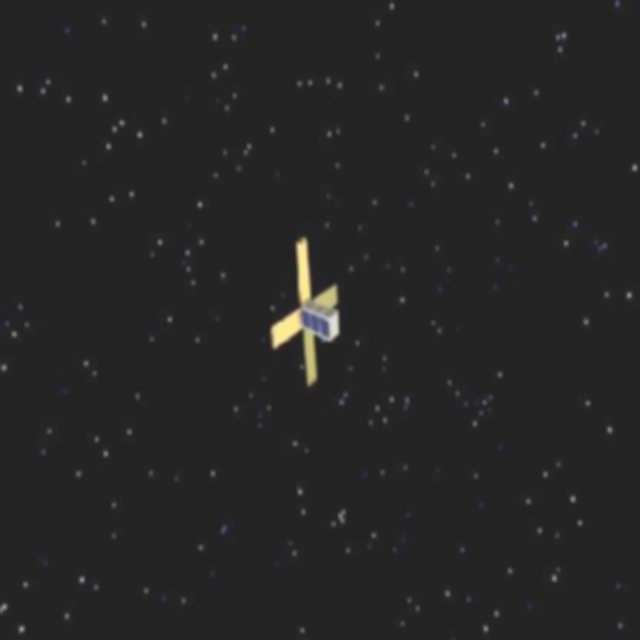satellite: (254, 231, 354, 398)
